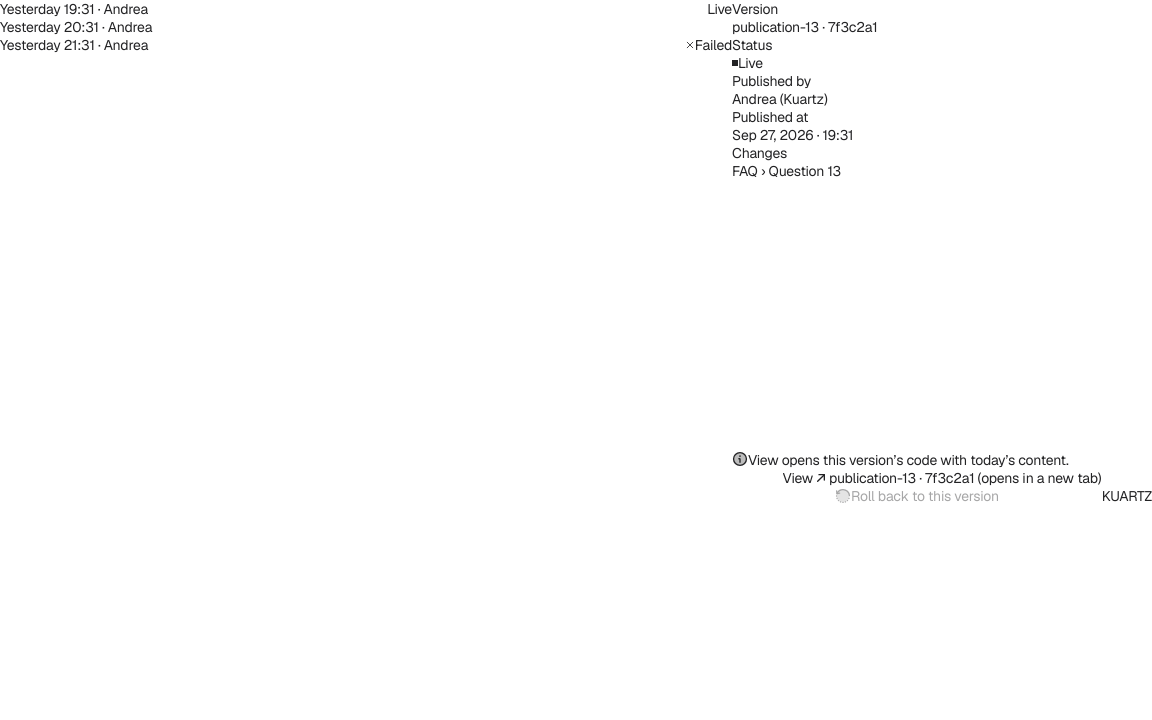
E2 · Versions › Kuartz : retour arrière réussi → version en ligne
Click the button "Yesterday 20:31 · Andrea" at (76, 27), box left=0, top=18, right=732, bottom=36
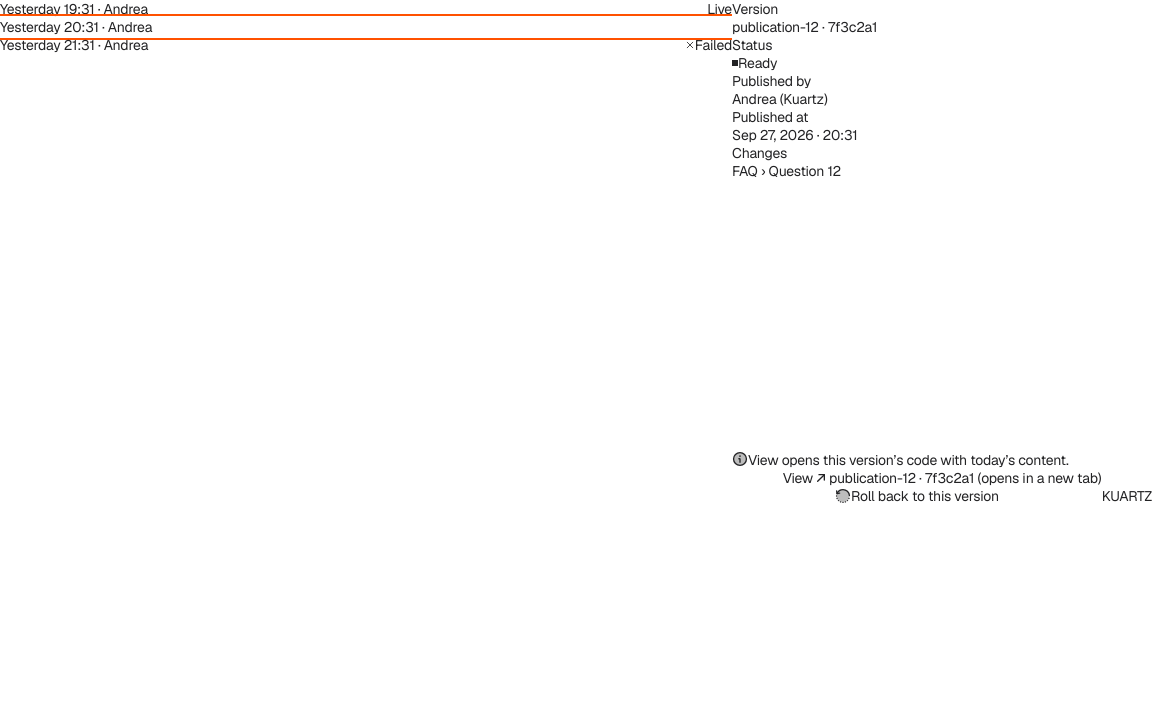
Click the button "Roll back to this version" at (917, 496), box left=732, top=487, right=1102, bottom=505
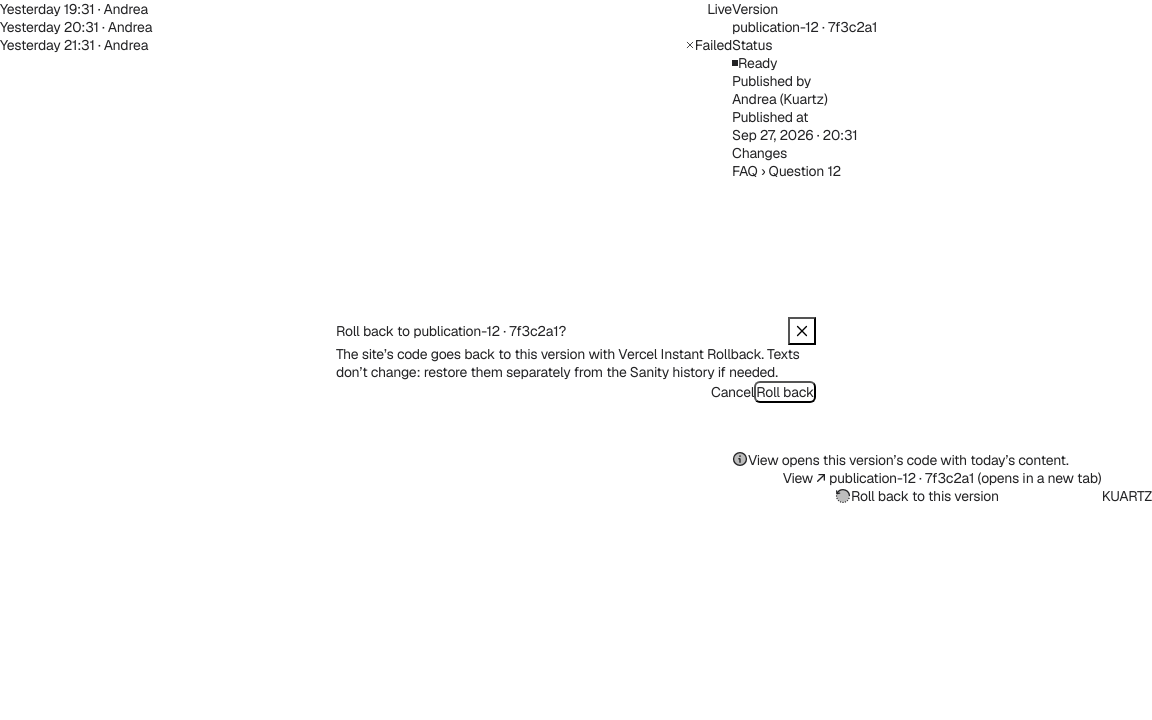
Click the button "Roll back" at (785, 392), box left=754, top=381, right=816, bottom=403
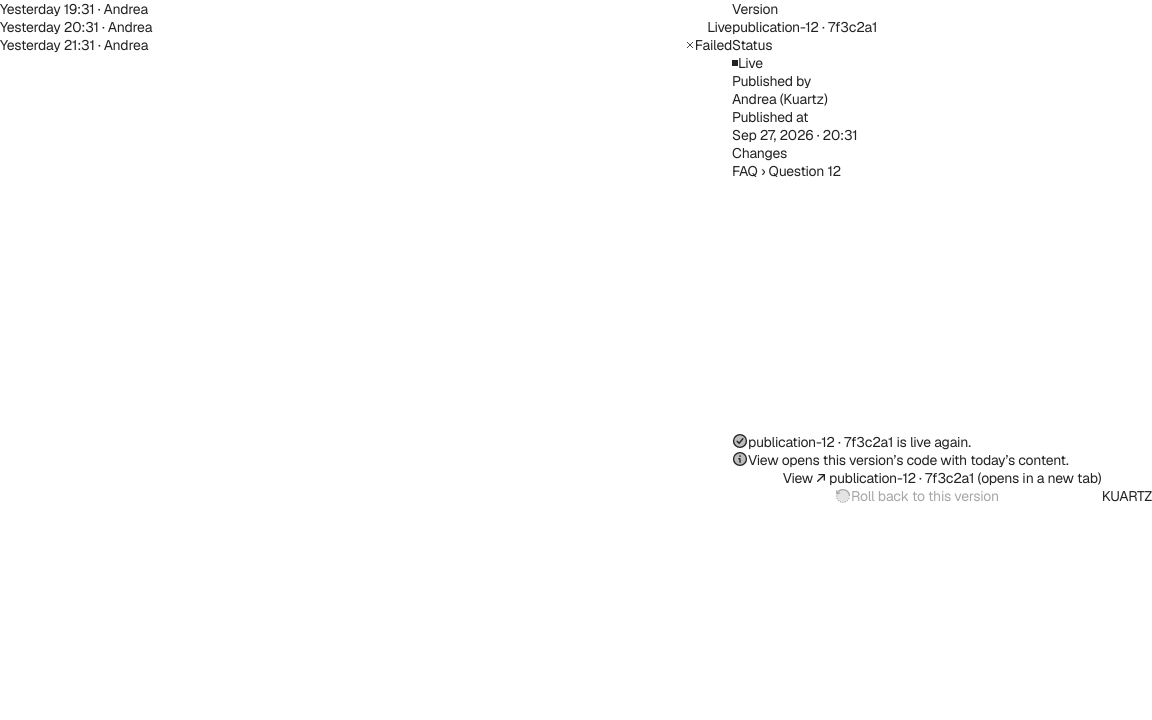
Expected: the message reads "publication-12 · 7f3c2a1 is live again.", left=748, top=433, right=971, bottom=451
